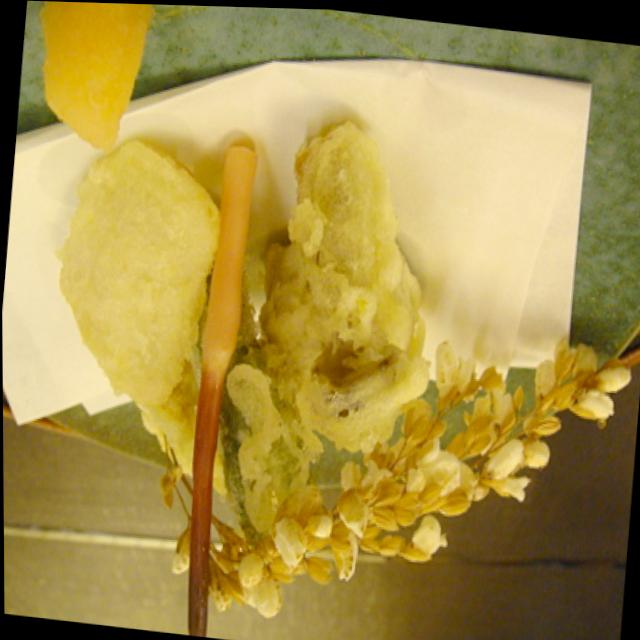蔬菜料理: (18, 97, 483, 595)
